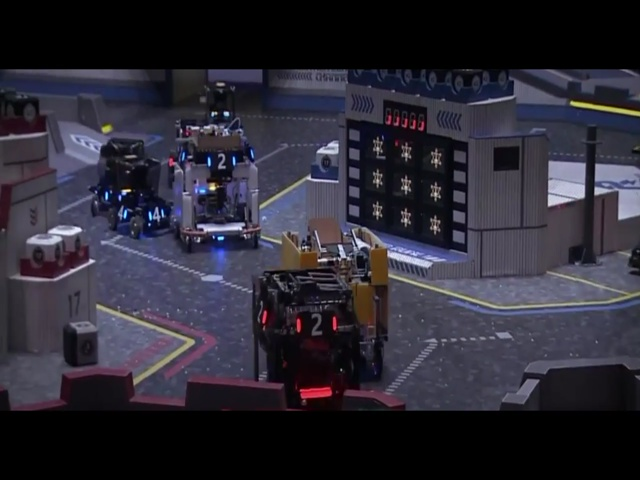bluePlate: (202, 150, 240, 170), (145, 203, 168, 225), (112, 199, 131, 224), (175, 140, 187, 166)
redPlate: (295, 307, 342, 340), (254, 297, 272, 333)
